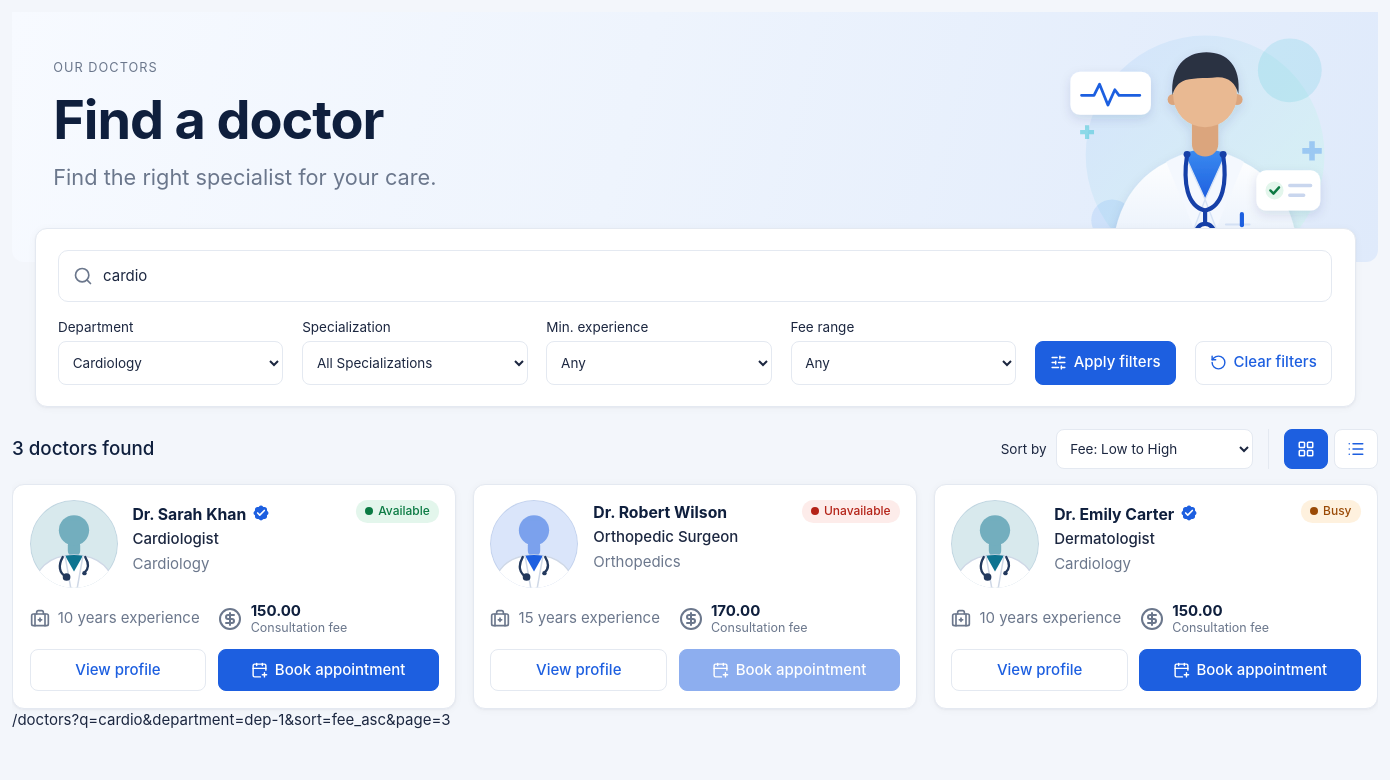
Test case: search and filters › clears every filter but keeps the sort order
Click the button "Clear filters". click: point(1263, 362)
box: left=1194, top=340, right=1332, bottom=384
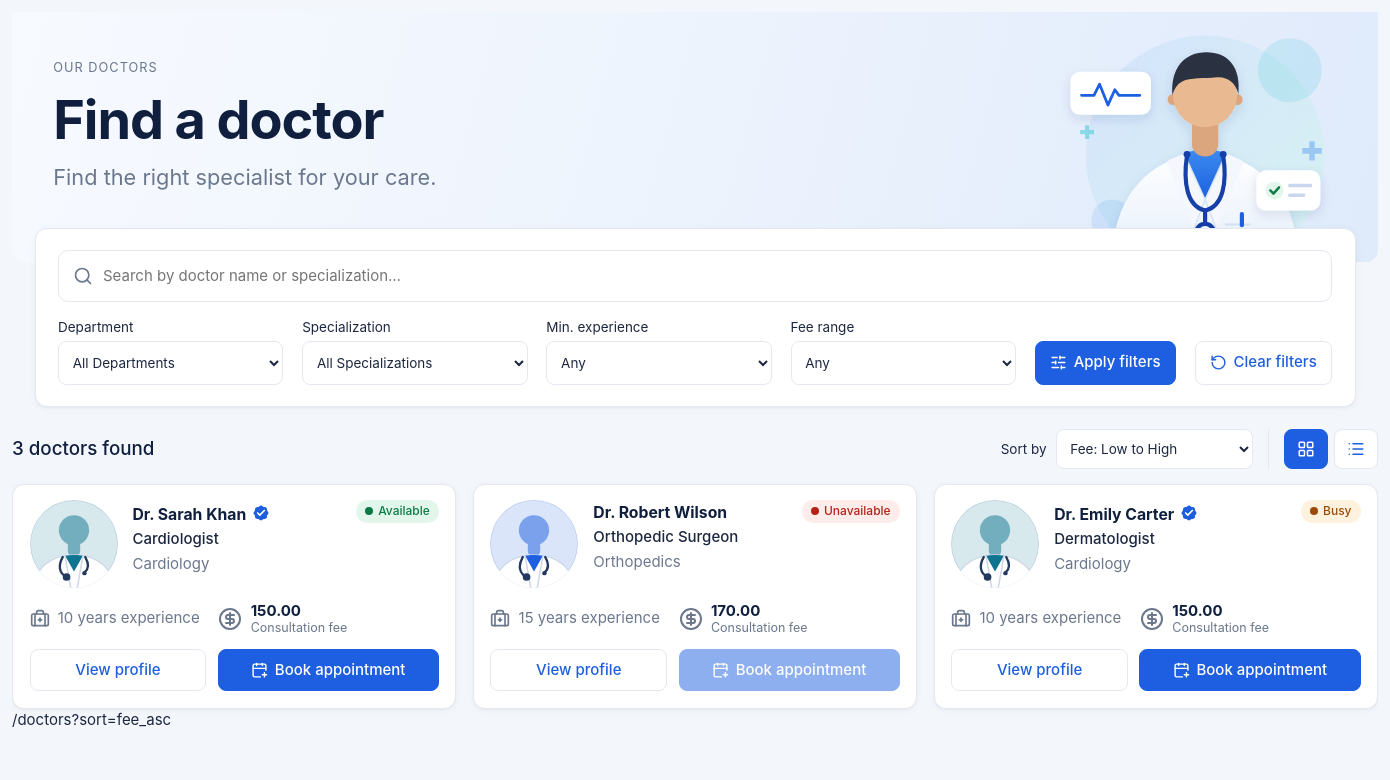
Expected: the text with test id "where" reads "/doctors?sort=fee_asc", left=12, top=710, right=171, bottom=729
Expected: the search field is empty, left=103, top=254, right=1318, bottom=298
